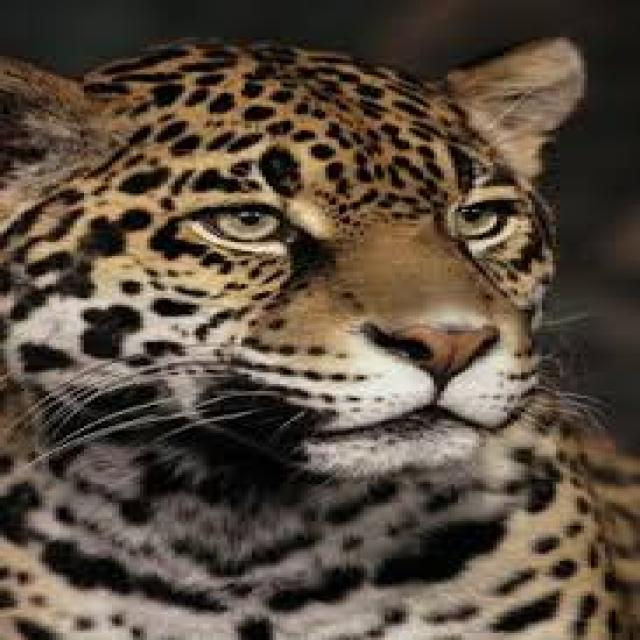Jaguar: (3, 25, 636, 640)
